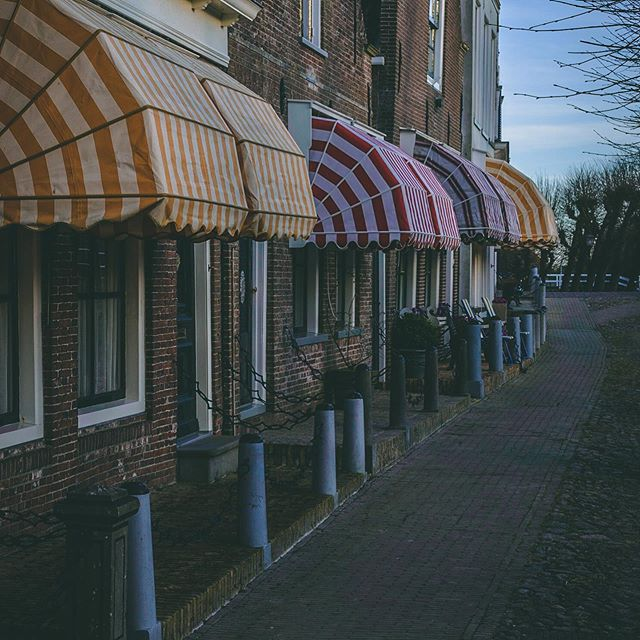building: (1, 1, 532, 580)
